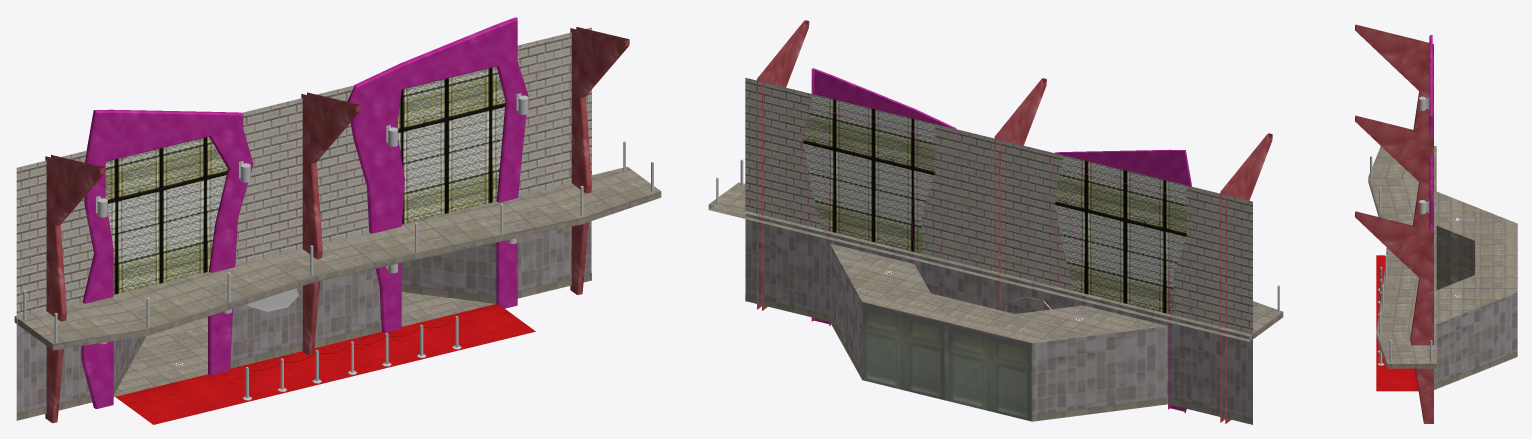
File: Ivan_Club 1.fbx
3 views of the same model, side by side, from view 1: azimuth 30°, elevation 25°; view 2: azimuth 150°, elevation 25°; view 3: azimuth 270°, elevation 25° (orthographic). The views are drawn at different scales.
Parts seen in each view (by area): view 1: ClubMain, ClubShiny; view 2: ClubMain; view 3: ClubMain, ClubShiny.
Part boxes in pixels (box(x1,y1,x2,y2)): ClubMain: box(14, 17, 661, 424); ClubShiny: box(23, 93, 653, 400); ClubMain: box(708, 20, 1283, 424); ClubMain: box(1355, 24, 1517, 423); ClubShiny: box(1370, 96, 1432, 365).
Size of the model in its own units: 2146 by 994 by 779.
